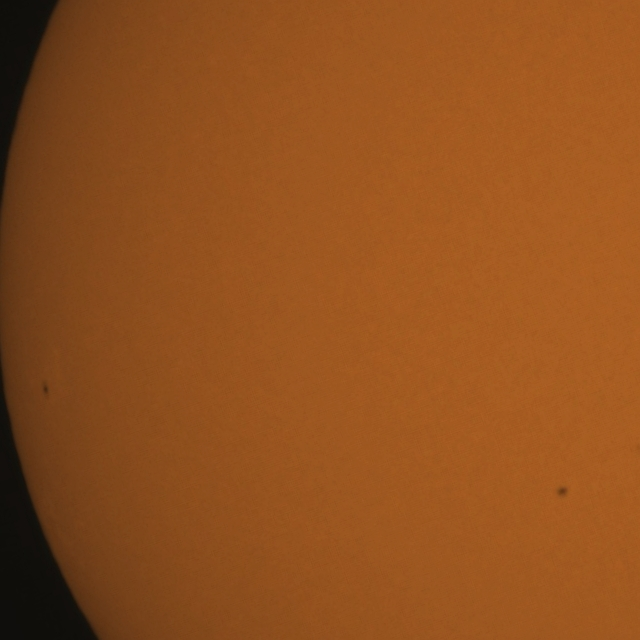sunspot: (555, 485, 570, 499), (41, 381, 50, 399)
